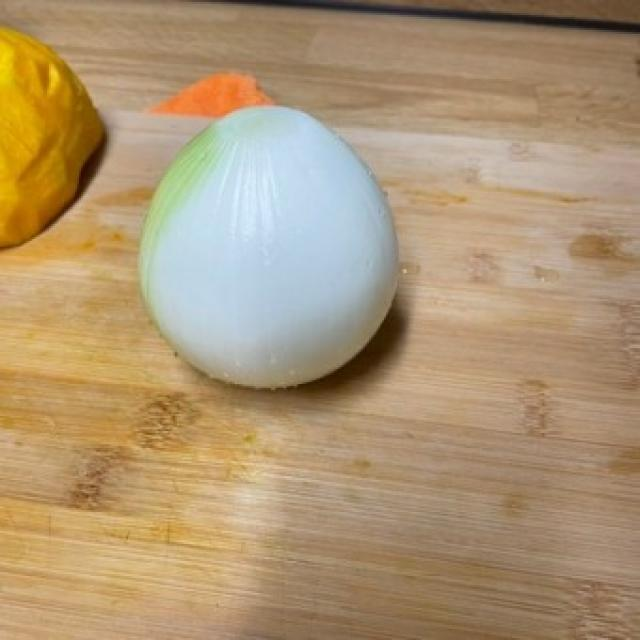onion: (133, 84, 411, 399)
